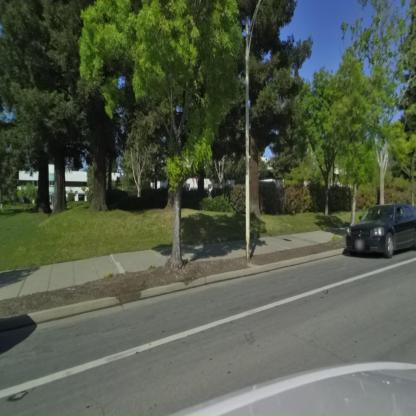car: (346, 202, 415, 259)
